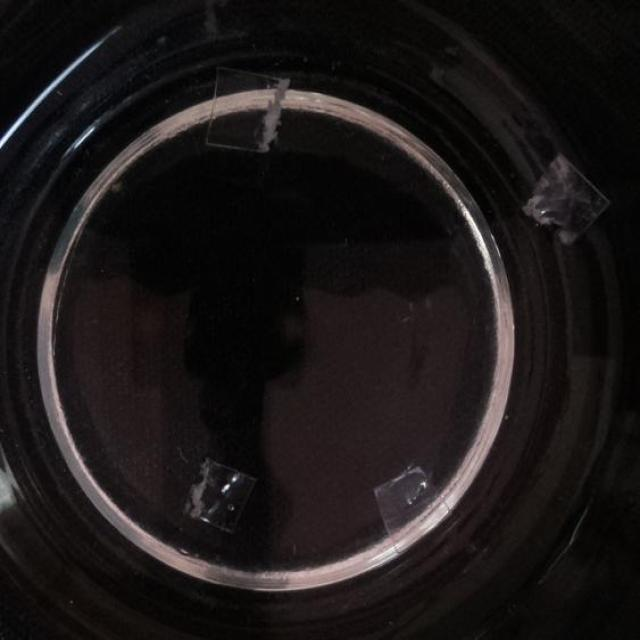fiber: (202, 61, 297, 161), (516, 148, 616, 243), (371, 467, 464, 557), (176, 448, 262, 539)
